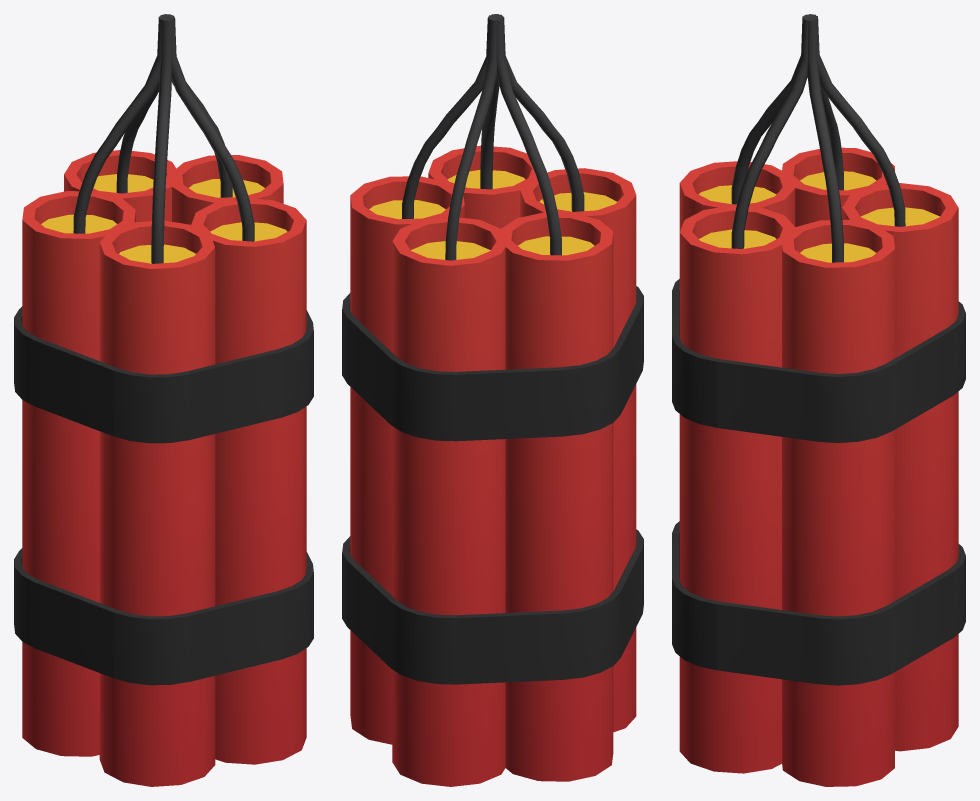
The model's file is Bomb02.fbx.
3 renders of one model, left to right at view 1: azimuth 30°, elevation 25°; view 2: azimuth 150°, elevation 25°; view 3: azimuth 270°, elevation 25°, orthographic.
Parts seen in each view (by area): view 1: Bomb02; view 2: Bomb02; view 3: Bomb02.
Boxes of the visible parts, bbox=[...] form: Bomb02: bbox=[14, 14, 313, 786]; Bomb02: bbox=[342, 14, 643, 786]; Bomb02: bbox=[672, 14, 965, 786].
Bounding box in the file's own units: 204 × 528 × 198.
